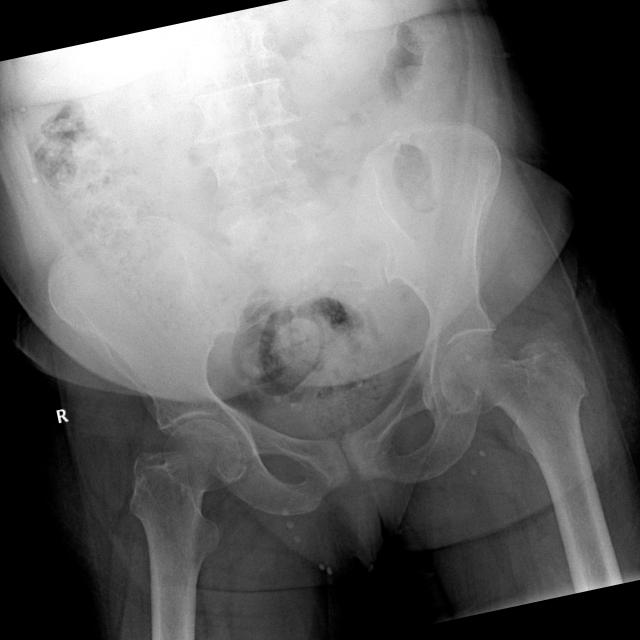normal-left: (438, 336, 606, 532)
normal-right: (130, 419, 240, 640)
